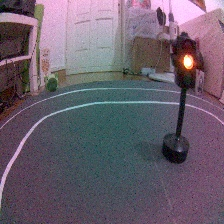amber: (161, 29, 198, 167)
